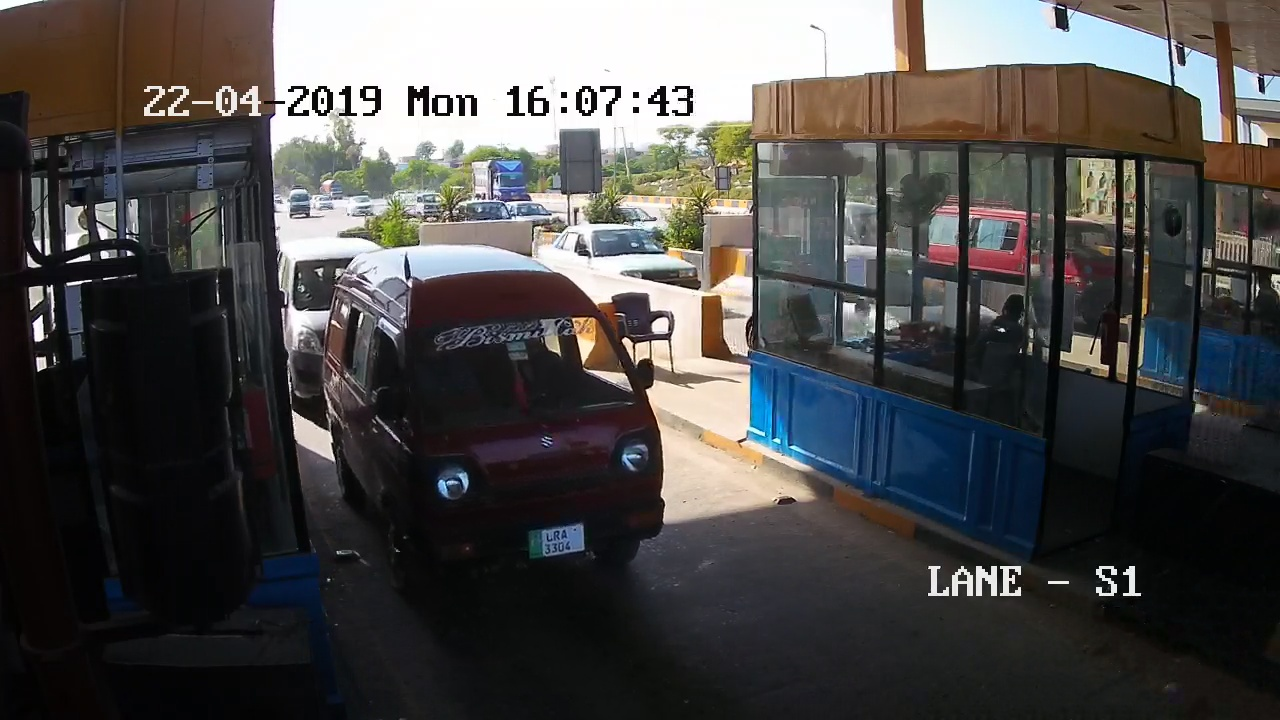Number Plate (Car): (529, 522, 586, 555)
